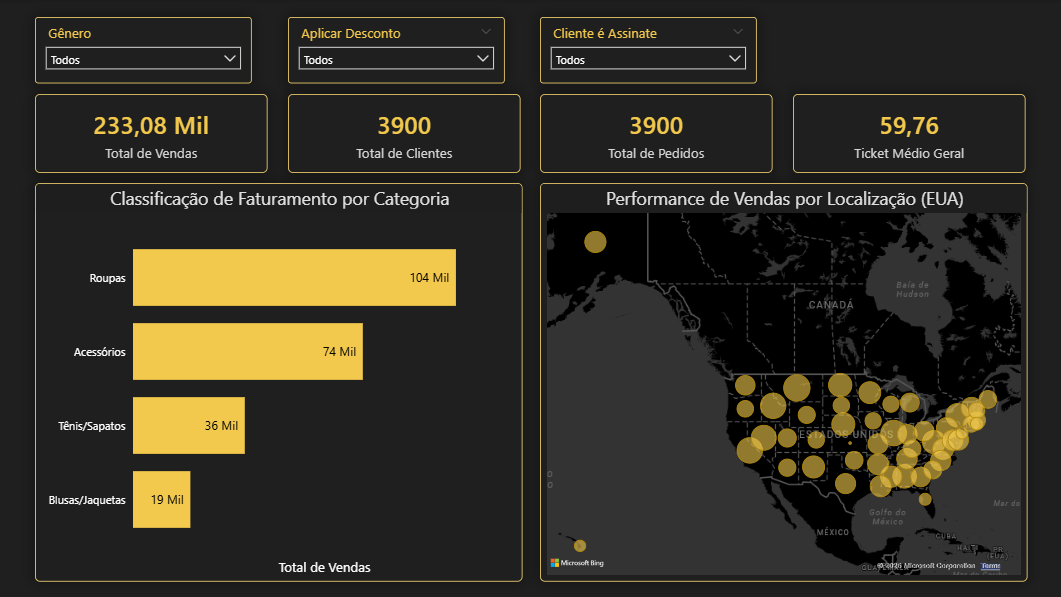

This screenshot's page, from the dashboard's own definition file:
{"tool":"powerbi","page":{"name":"Visão Executiva","canvas":[1280,720],"ordinal":0},"visuals":[{"type":"card","fields":{"Values":["DimShopping.TotalSales"]},"box":[16.2,95.2,296.2,95],"z":0},{"type":"card","fields":{"Values":["DimShopping.TotalOrders"]},"box":[650,95.2,296.2,95],"z":1000},{"type":"card","fields":{"Values":["DimShopping.TotalCustomers"]},"box":[333.8,95.2,295,95],"z":2000},{"type":"card","fields":{"Values":["DimShopping.AverageTicket"]},"box":[967.5,95.2,296.2,95],"z":3000},{"type":"barChart","title":"Receita por Categoria de Produto","fields":{"Category":["FactShopping.Category_PT"],"Y":["DimShopping.TotalSales"]},"box":[16.2,202.5,612.5,502.5],"z":4000},{"type":"map","title":"Distribuição de Receita por Estado (EUA)","fields":{"Category":["DimShopping.State"],"Size":["FactShopping.TotalSales"]},"box":[650,203.8,613.8,501.2],"z":5000},{"type":"slicer","fields":{"Values":["DimShopping.Gender_PT"]},"box":[30,12.5,270,68.8],"z":6000},{"type":"slicer","fields":{"Values":["DimShopping.DiscountApplied_PT"]},"box":[345,12.5,271.2,68.8],"z":7000},{"type":"slicer","fields":{"Values":["DimShopping.SubscriptionStatus_PT"]},"box":[663.8,12.5,268.8,68.8],"z":8000}]}

Visuals, with their boxes in screenshot pixels (x1, y1, x2, y2), scaled from the page's 1280x720 canvas onto the 1061x597 screenshot:
card - DimShopping.TotalSales: (x1=13, y1=79, x2=259, y2=158)
card - DimShopping.TotalOrders: (x1=539, y1=79, x2=784, y2=158)
card - DimShopping.TotalCustomers: (x1=277, y1=79, x2=521, y2=158)
card - DimShopping.AverageTicket: (x1=802, y1=79, x2=1047, y2=158)
"Receita por Categoria de Produto" barChart: (x1=13, y1=168, x2=521, y2=585)
"Distribuição de Receita por Estado (EUA)" map: (x1=539, y1=169, x2=1048, y2=585)
slicer - DimShopping.Gender_PT: (x1=25, y1=10, x2=249, y2=67)
slicer - DimShopping.DiscountApplied_PT: (x1=286, y1=10, x2=511, y2=67)
slicer - DimShopping.SubscriptionStatus_PT: (x1=550, y1=10, x2=773, y2=67)
